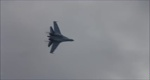maybay_muctieu: (46, 20, 75, 53)
